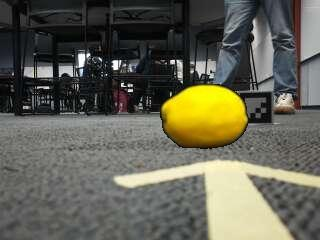lemon: (163, 86, 249, 149)
